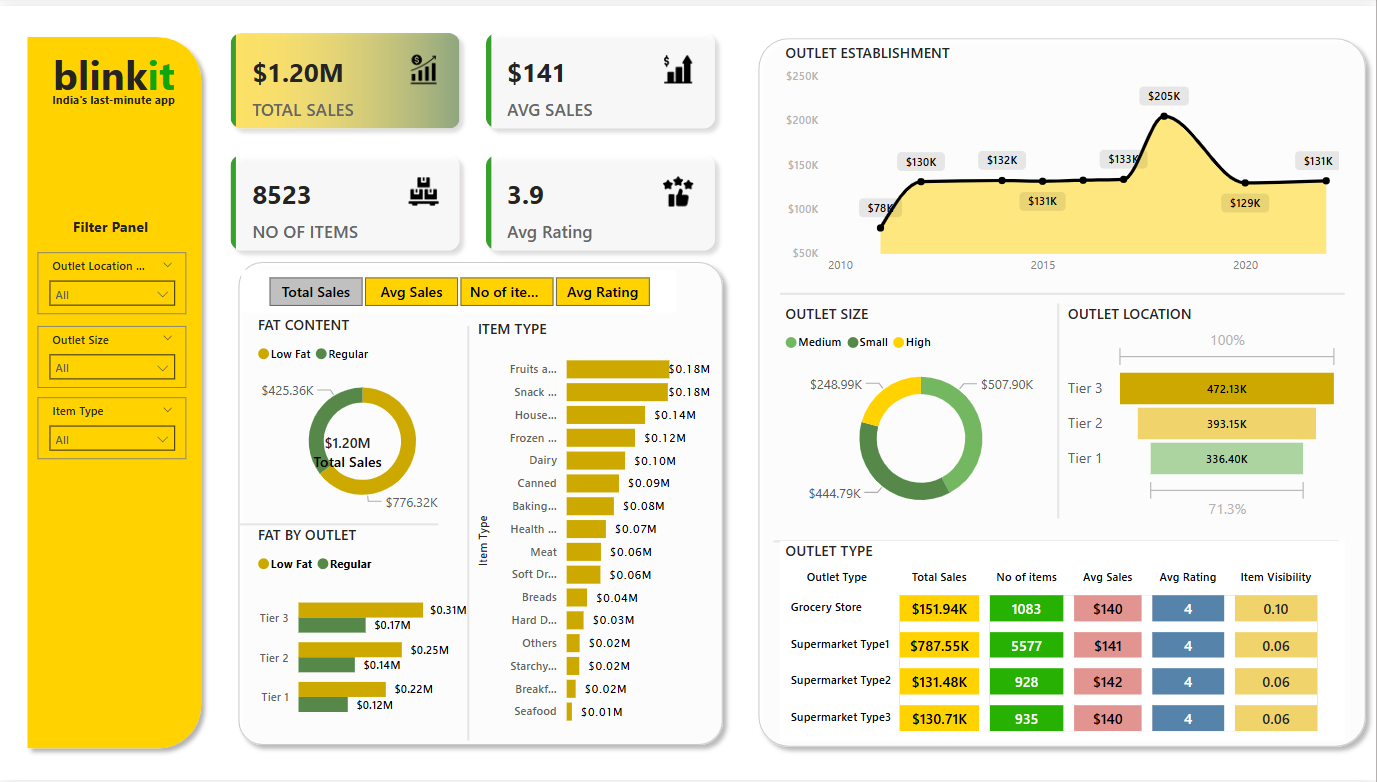

The page's visual inventory and layout, read from the dashboard file:
{"tool":"powerbi","page":{"name":"Page 1","canvas":[1280,720],"ordinal":0},"visuals":[{"type":"shape","box":[16.7,20,180,680],"z":0},{"type":"textbox","box":[35,33.3,141.7,60],"z":1000},{"type":"textbox","box":[35.2,72.2,141.7,29.6],"z":2000},{"type":"cardVisual","fields":{"Data":["BlinkIT Grocery Data.Total Sales","BlinkIT Grocery Data.Avg Sales","BlinkIT Grocery Data.No of items","BlinkIT Grocery Data.Avg Rating"]},"box":[197.6,8.4,484.3,237.3],"z":3000},{"type":"shape","box":[213.3,228.9,468.7,467.5],"z":4000},{"type":"donutChart","title":"FAT CONTENT","fields":{"Y":["BlinkIT Grocery Data.Total Sales"],"Category":["BlinkIT Grocery Data.Item Fat Content"]},"box":[234.9,286.7,204.8,190.4],"z":5000},{"type":"slicer","fields":{"Values":["Metrics.Metrics"]},"box":[224.1,245.8,403.6,39.8],"z":6000},{"type":"cardVisual","fields":{"Data":["BlinkIT Grocery Data.Total Sales"]},"box":[267.5,380.7,112,57.8],"z":7000},{"type":"clusteredBarChart","title":"FAT BY OUTLET","fields":{"Y":["BlinkIT Grocery Data.Total Sales"],"Category":["BlinkIT Grocery Data.Outlet Location Type"],"Series":["BlinkIT Grocery Data.Item Fat Content"]},"box":[234.9,483.1,204.8,195.2],"z":8000},{"type":"shape","box":[221.7,477.1,185.5,10.8],"z":9000},{"type":"shape","box":[431.3,297.6,8.4,385.5],"z":10000},{"type":"barChart","title":"ITEM TYPE","fields":{"Y":["BlinkIT Grocery Data.Total Sales"],"Category":["BlinkIT Grocery Data.Item Type"]},"box":[439.8,290.4,226.5,388],"z":11000},{"type":"shape","box":[696.4,20.5,583.1,677.1],"z":12000},{"type":"lineChart","title":"OUTLET ESTABLISHMENT","fields":{"Category":["BlinkIT Grocery Data.Outlet Establishment Year"],"Y":["BlinkIT Grocery Data.Total Sales"]},"box":[725.3,33.7,525.3,224.1],"z":13000},{"type":"shape","box":[725.3,257.8,525.3,19.3],"z":14000},{"type":"donutChart","title":"OUTLET SIZE","fields":{"Y":["BlinkIT Grocery Data.Total Sales"],"Category":["BlinkIT Grocery Data.Outlet Size"]},"box":[725.3,277.1,262.7,206],"z":15000},{"type":"shape","box":[981.9,277.1,6,200],"z":16000},{"type":"funnel","title":"OUTLET LOCATION","fields":{"Y":["Sum(BlinkIT Grocery Data.Sales)"],"Category":["BlinkIT Grocery Data.Outlet Location Type"]},"box":[988,277.1,262.7,206],"z":17000},{"type":"shape","box":[719.3,488,525.3,19.3],"z":18000},{"type":"pivotTable","title":"OUTLET TYPE","fields":{"Rows":["BlinkIT Grocery Data.Outlet Type"],"Values":["BlinkIT Grocery Data.Total Sales","BlinkIT Grocery Data.No of items","BlinkIT Grocery Data.Avg Sales","BlinkIT Grocery Data.Avg Rating","Avg(BlinkIT Grocery Data.Item Visibility)"]},"box":[725.3,497.6,525.3,185.5],"z":19000},{"type":"slicer","fields":{"Values":["BlinkIT Grocery Data.Outlet Location Type"]},"box":[34.9,228.9,138.6,57.8],"z":20000},{"type":"slicer","fields":{"Values":["BlinkIT Grocery Data.Outlet Size"]},"box":[34.9,297.6,138.6,57.8],"z":21000},{"type":"slicer","fields":{"Values":["BlinkIT Grocery Data.Item Type"]},"box":[34.9,363.9,138.6,57.8],"z":22000},{"type":"textbox","box":[62.7,190.4,88,27.7],"z":23000}]}

Visuals, with their boxes in screenshot pixels (x1, y1, x2, y2), scaled from the page's 1280x720 canvas onto the 1377x782 screenshot:
shape: (left=18, top=22, right=212, bottom=760)
textbox: (left=38, top=36, right=190, bottom=101)
textbox: (left=38, top=78, right=190, bottom=111)
cardVisual - BlinkIT Grocery Data.Total Sales x BlinkIT Grocery Data.Avg Sales: (left=213, top=9, right=734, bottom=267)
shape: (left=229, top=249, right=734, bottom=756)
"FAT CONTENT" donutChart: (left=253, top=311, right=473, bottom=518)
slicer - Metrics.Metrics: (left=241, top=267, right=675, bottom=310)
cardVisual - BlinkIT Grocery Data.Total Sales: (left=288, top=413, right=408, bottom=476)
"FAT BY OUTLET" clusteredBarChart: (left=253, top=525, right=473, bottom=737)
shape: (left=239, top=518, right=438, bottom=530)
shape: (left=464, top=323, right=473, bottom=742)
"ITEM TYPE" barChart: (left=473, top=315, right=717, bottom=737)
shape: (left=749, top=22, right=1376, bottom=758)
"OUTLET ESTABLISHMENT" lineChart: (left=780, top=37, right=1345, bottom=280)
shape: (left=780, top=280, right=1345, bottom=301)
"OUTLET SIZE" donutChart: (left=780, top=301, right=1063, bottom=525)
shape: (left=1056, top=301, right=1063, bottom=518)
"OUTLET LOCATION" funnel: (left=1063, top=301, right=1345, bottom=525)
shape: (left=774, top=530, right=1339, bottom=551)
"OUTLET TYPE" pivotTable: (left=780, top=540, right=1345, bottom=742)
slicer - BlinkIT Grocery Data.Outlet Location Type: (left=38, top=249, right=187, bottom=311)
slicer - BlinkIT Grocery Data.Outlet Size: (left=38, top=323, right=187, bottom=386)
slicer - BlinkIT Grocery Data.Item Type: (left=38, top=395, right=187, bottom=458)
textbox: (left=67, top=207, right=162, bottom=237)
